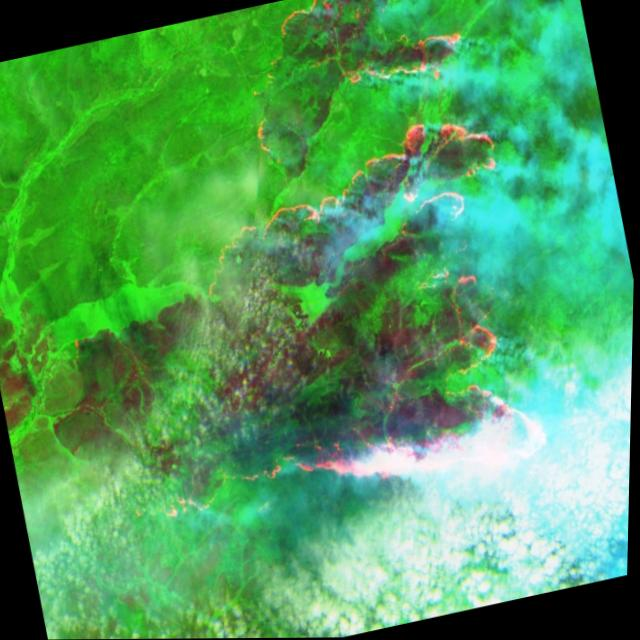fire: (155, 99, 567, 539), (269, 0, 472, 116)
